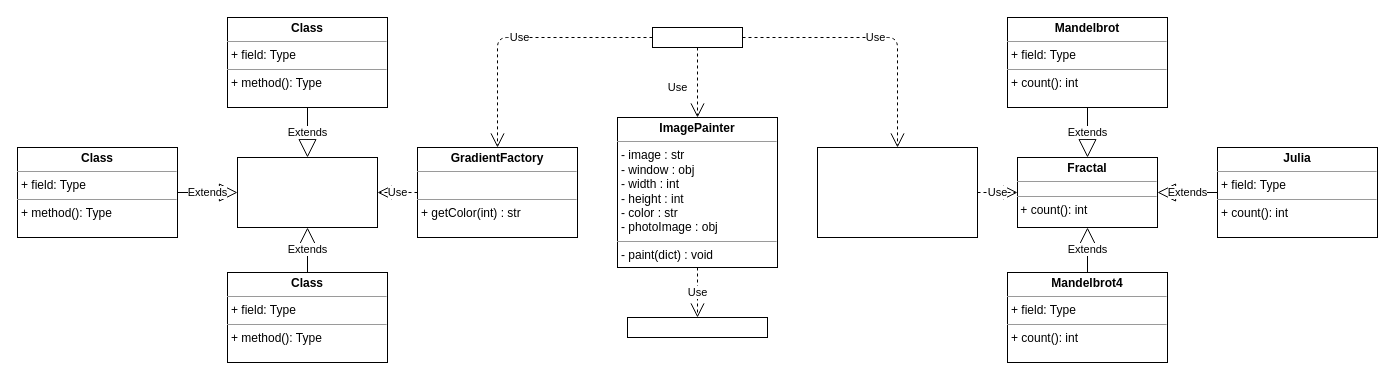
This 1395x380 diagram has some shape labels left out. Here are the shapes that lost their labels. From the top down, the centre of each, then its label:
At (x=697, y=37): "Main".
At (x=307, y=192): "Gradient + count(): int".
At (x=897, y=192): "FractalFactory + field: Type + method(): Type".
At (x=697, y=327): "Tkinter".
